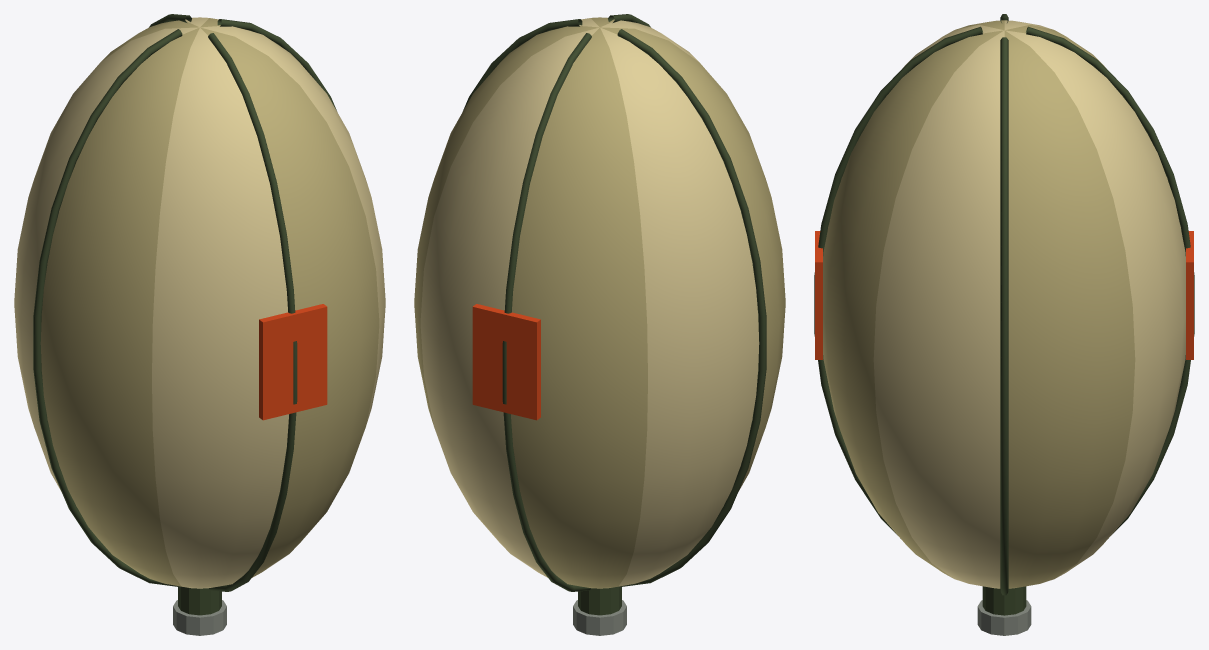
Rendered from md_fulton_balloon.fbx.
3 views of the same model, side by side, from view 1: azimuth 30°, elevation 25°; view 2: azimuth 150°, elevation 25°; view 3: azimuth 270°, elevation 25° (orthographic).
Visible parts, largest first — view 1: md_fulton_balloon; view 2: md_fulton_balloon; view 3: md_fulton_balloon.
Part boxes in pixels (box(x1,y1,x2,y2)): md_fulton_balloon: box(14, 14, 385, 635); md_fulton_balloon: box(414, 14, 785, 635); md_fulton_balloon: box(814, 14, 1194, 635).
Size of the model in its own units: 113 by 196 by 113.
